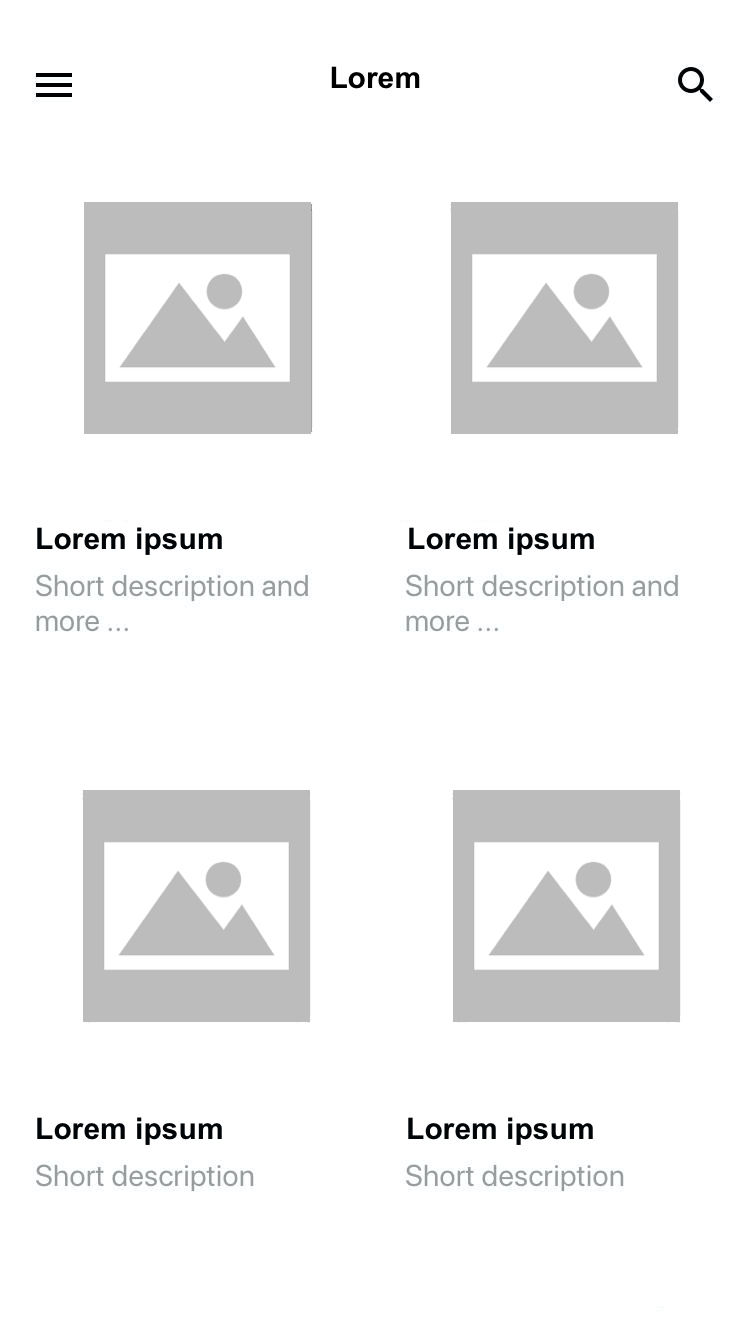Icon: (677, 67, 714, 104), (36, 73, 74, 99)
Image: (85, 202, 314, 435), (83, 790, 312, 1023), (451, 202, 679, 435), (453, 790, 681, 1023)
Text: (405, 573, 679, 633), (35, 574, 310, 633), (405, 1163, 625, 1193), (35, 1163, 255, 1192), (408, 525, 596, 557), (37, 525, 224, 557), (37, 1116, 225, 1147), (407, 1116, 594, 1146), (332, 67, 421, 91)
